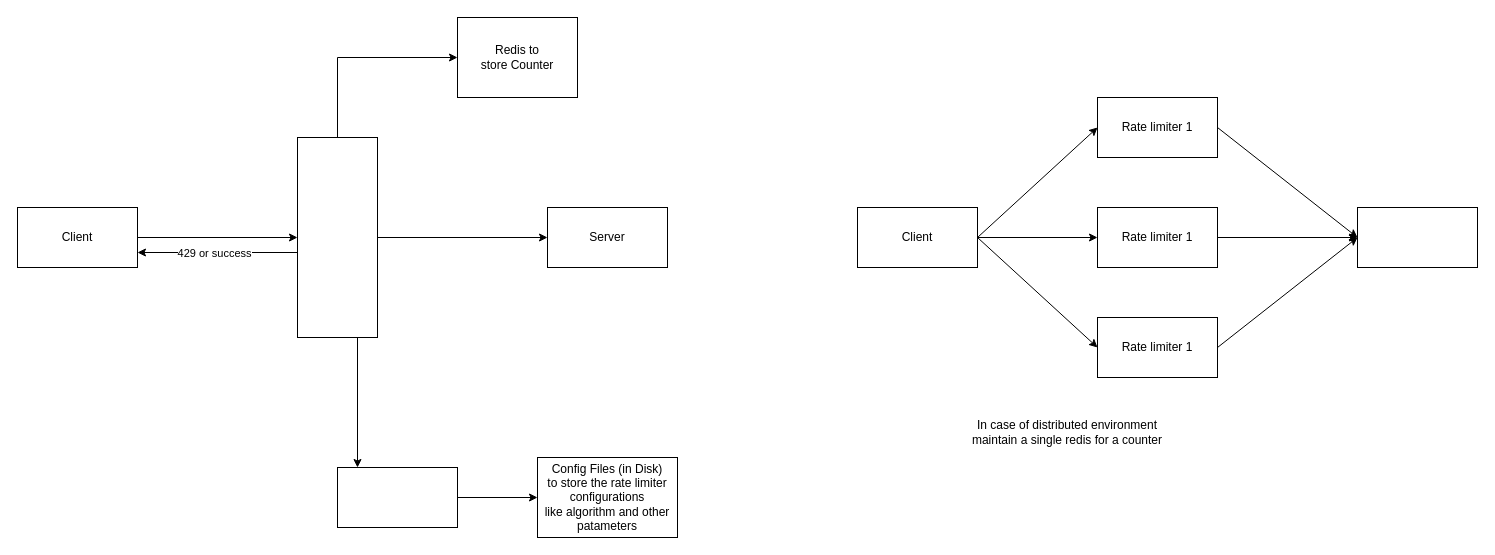
Some shapes in this 1495 by 555 pixel diagram are drawn without their labels. Each missing label, with the box of its shape:
Cache: (336, 466, 458, 528)
Middle- ware / API Gateway that holds rate limiter: (296, 136, 378, 338)
Redis: (1356, 206, 1478, 268)
